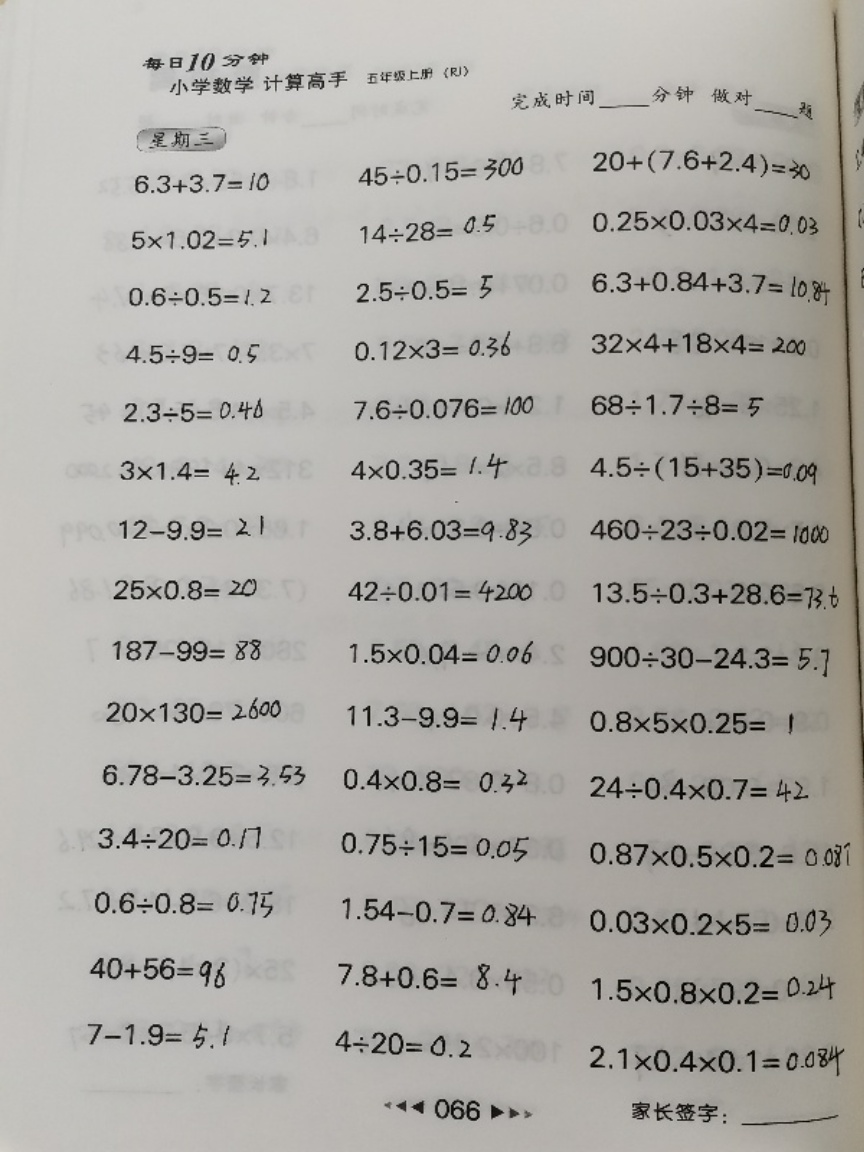equation: (580, 256, 834, 312), (583, 834, 857, 878), (586, 510, 840, 553), (585, 1040, 850, 1081), (586, 577, 847, 618), (346, 494, 537, 549), (583, 636, 834, 677), (586, 969, 840, 1009), (588, 144, 818, 186), (585, 903, 837, 940), (585, 449, 821, 487), (586, 204, 822, 239), (333, 953, 526, 995), (583, 706, 802, 743), (585, 770, 812, 805), (586, 325, 811, 360), (334, 828, 533, 865), (337, 894, 540, 930), (98, 759, 311, 792), (337, 763, 531, 798), (88, 886, 276, 922), (343, 700, 531, 736), (344, 636, 537, 670), (101, 694, 287, 729), (347, 392, 539, 425), (344, 576, 539, 608), (348, 327, 516, 364), (586, 389, 769, 422), (346, 449, 511, 484), (85, 949, 232, 988), (92, 821, 265, 854), (82, 1017, 236, 1054), (353, 156, 527, 187), (351, 269, 497, 305), (114, 455, 264, 490), (109, 634, 266, 667), (112, 511, 268, 544), (330, 1025, 475, 1060), (108, 573, 262, 605), (356, 213, 501, 246), (125, 223, 272, 255), (128, 167, 274, 199), (118, 395, 268, 426), (120, 338, 264, 370), (124, 282, 276, 312)
